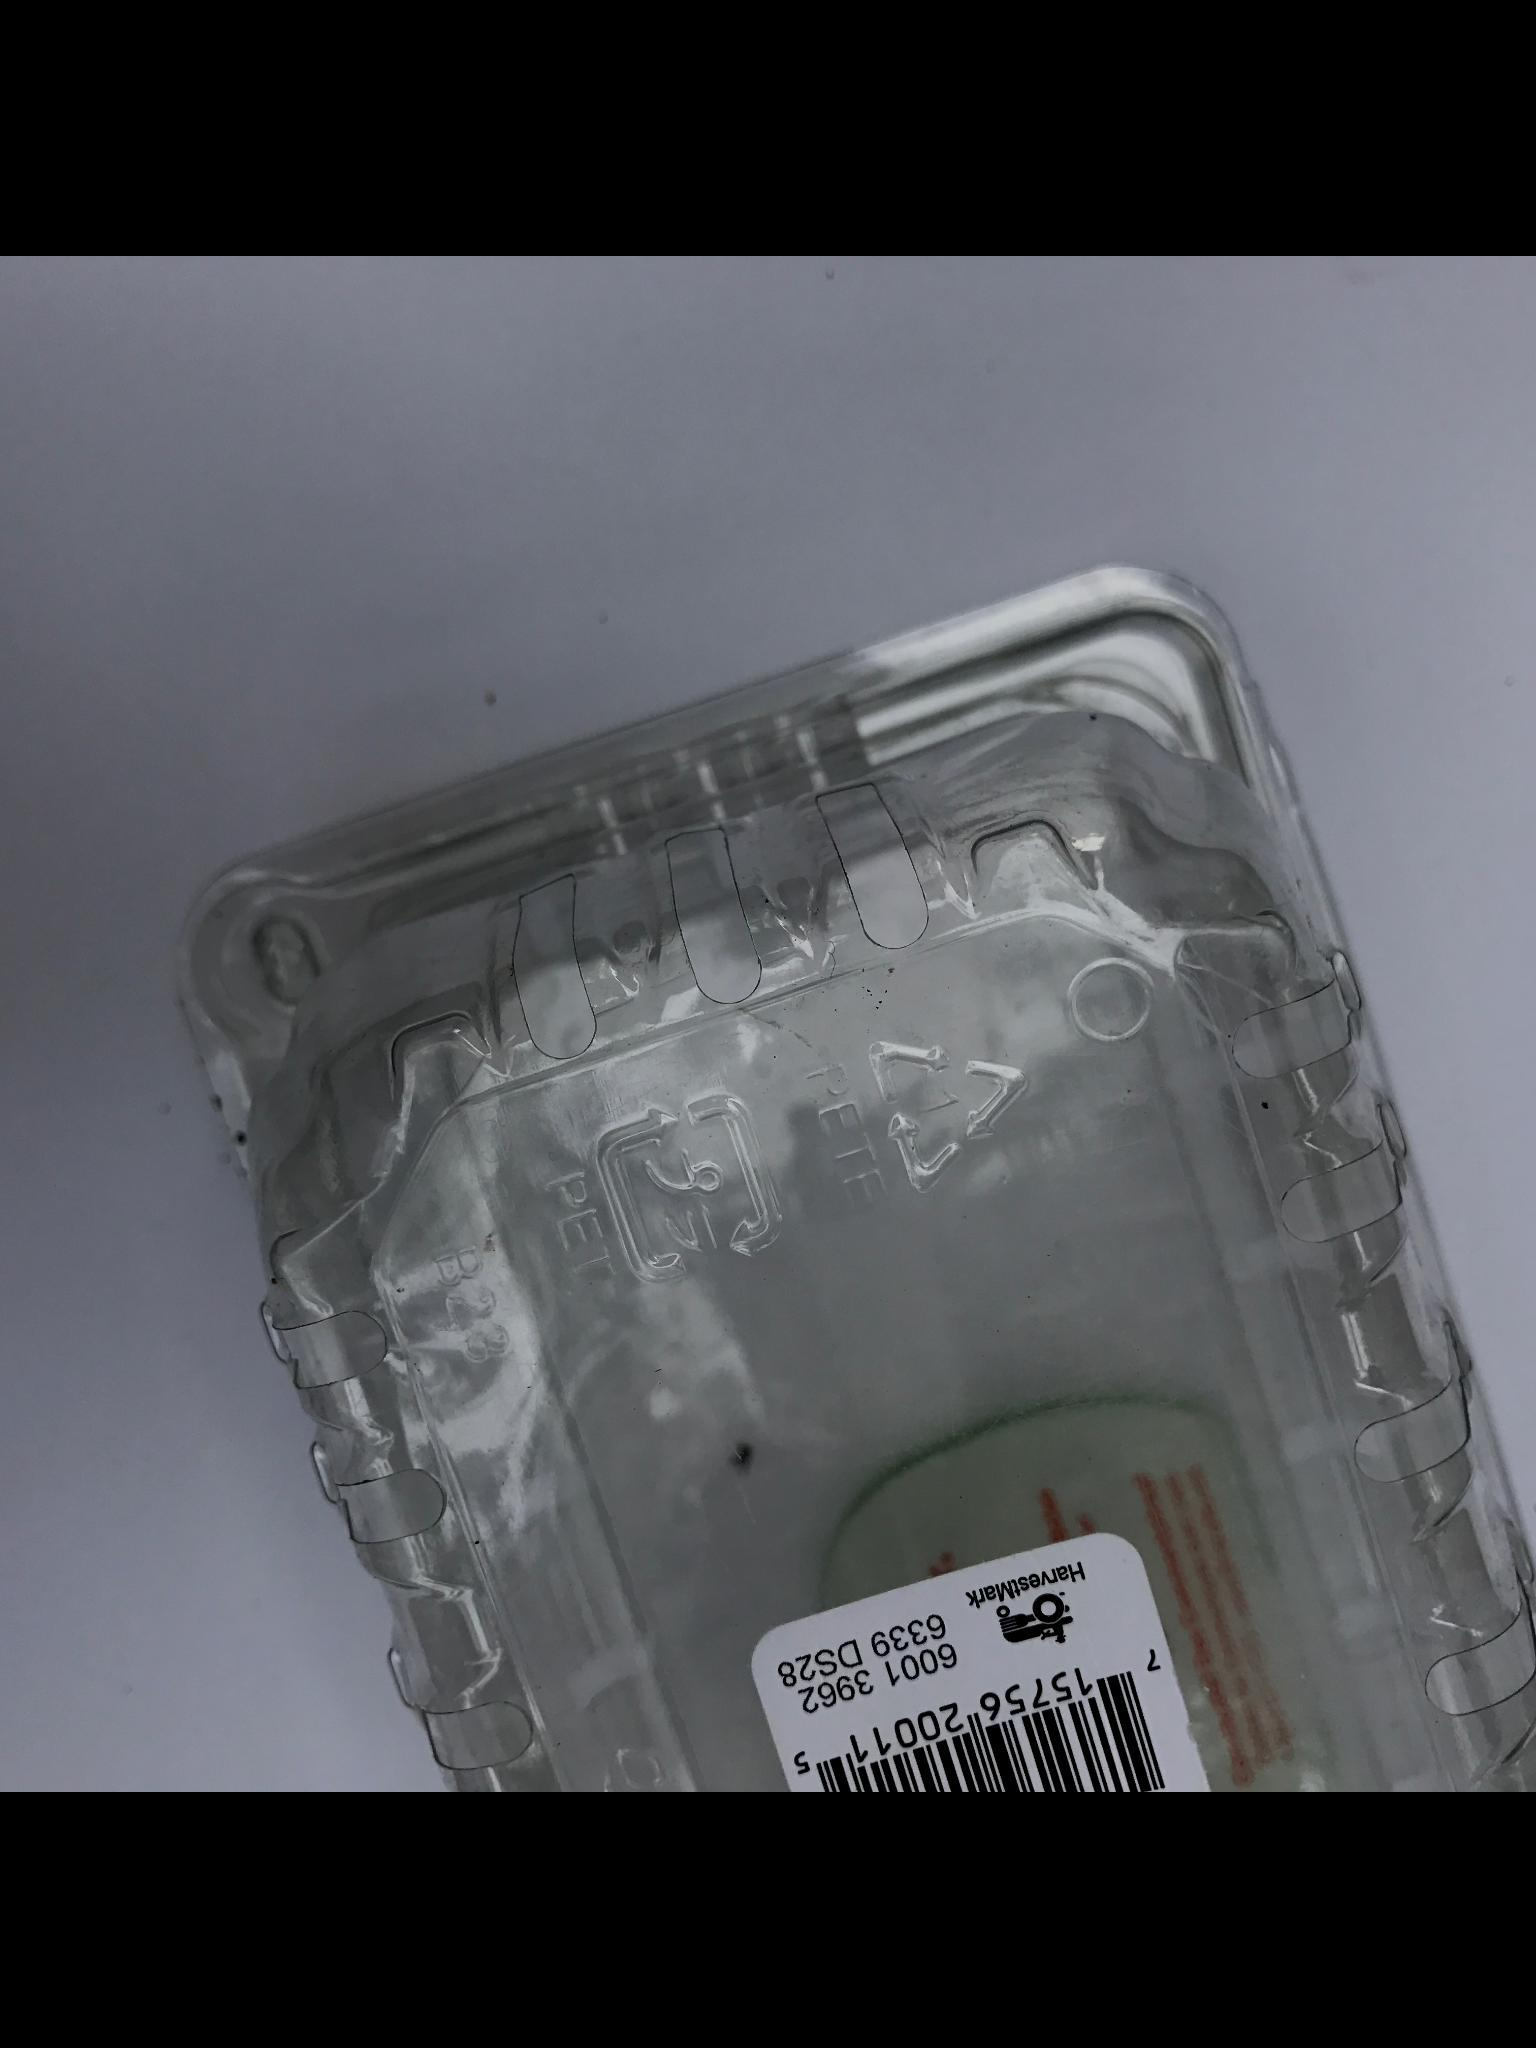Plastic: (160, 556, 1534, 1792)
